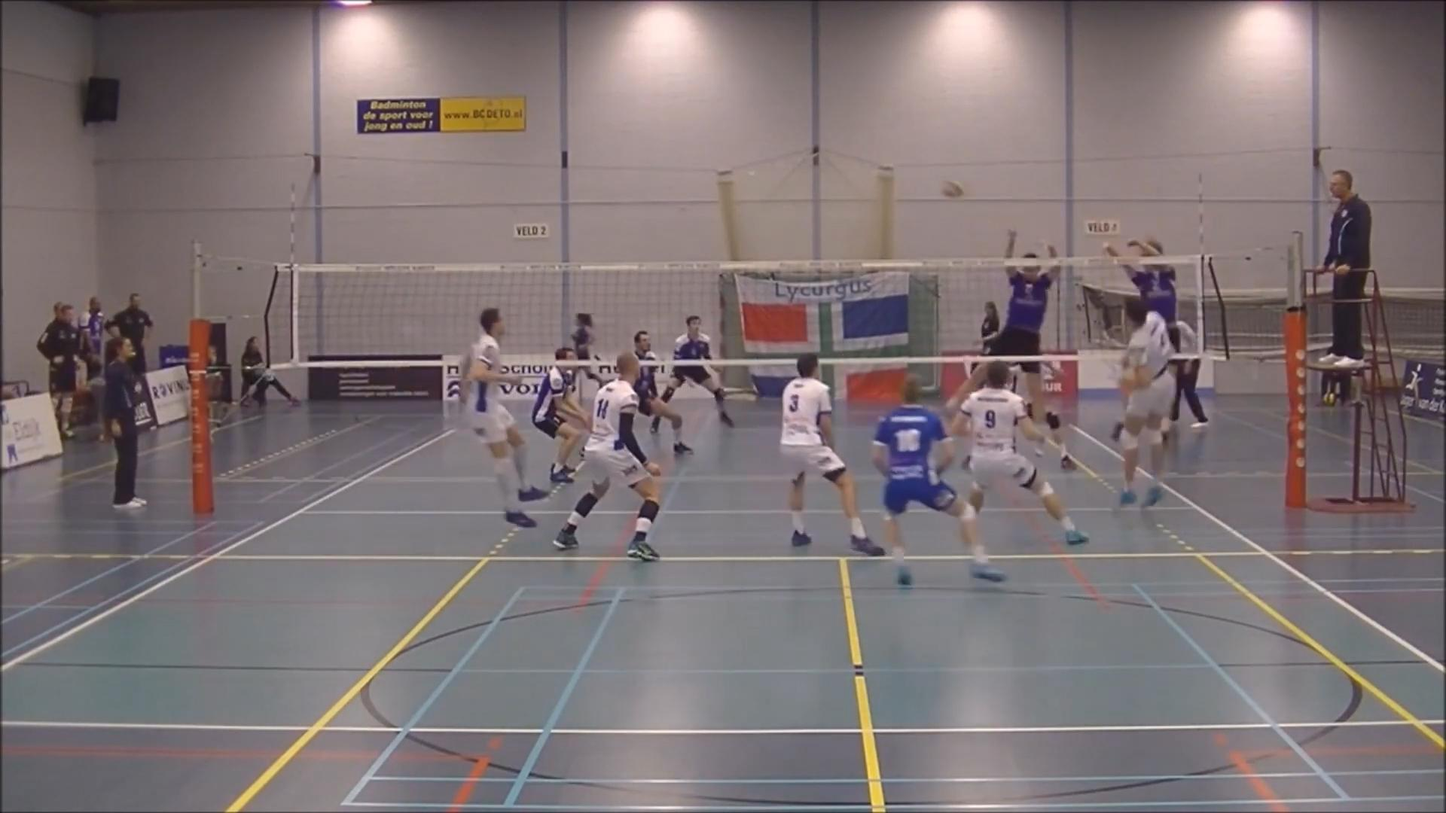Attack: (1106, 295, 1177, 517)
Block: (928, 220, 1079, 469), (1111, 216, 1186, 325)
Player: (872, 376, 1004, 586), (950, 360, 1088, 544), (554, 352, 660, 561), (780, 354, 884, 556), (466, 308, 547, 527), (660, 315, 733, 426), (633, 330, 692, 454), (532, 366, 587, 483), (570, 312, 602, 382)
ball: (940, 177, 964, 198)
